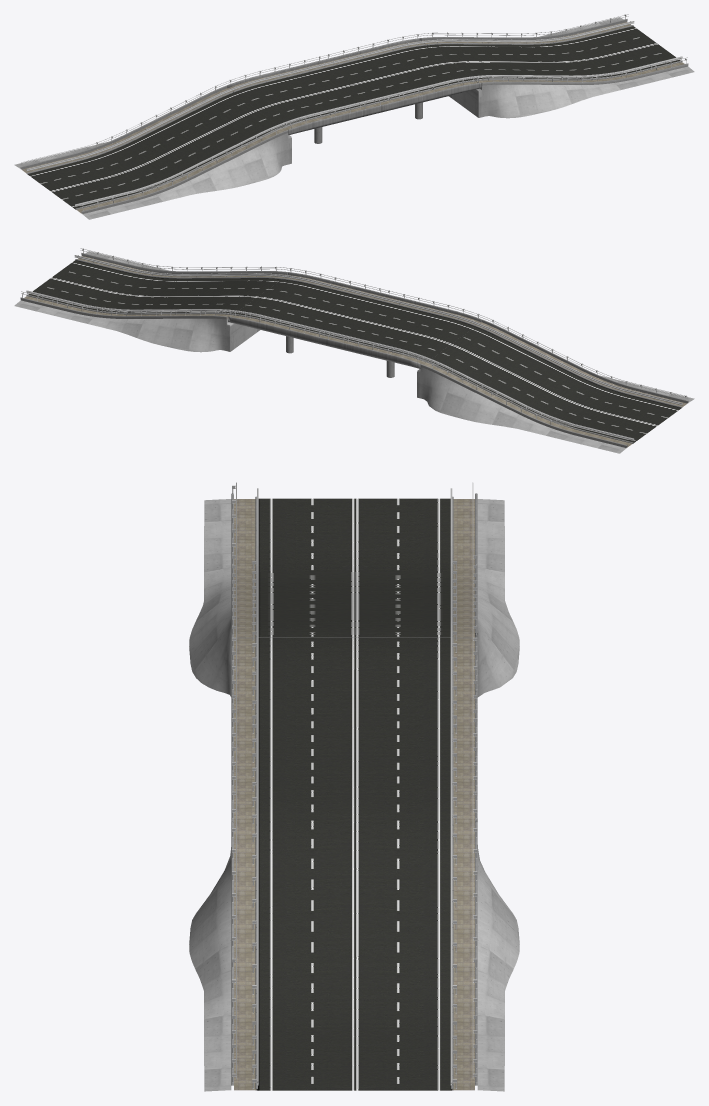
Rendered from qiao4.FBX.
The picture shows the model from 3 angles, top to bottom: view 1: azimuth 30°, elevation 25°; view 2: azimuth 150°, elevation 25°; view 3: azimuth 270°, elevation 25°; orthographic projection. The views are drawn at different scales.
Parts seen in each view (by area): view 1: qiao4; view 2: qiao4; view 3: qiao4.
Boxes of the visible parts, left/top/right/bottom form: qiao4: left=14, top=14, right=694, bottom=219; qiao4: left=14, top=248, right=694, bottom=453; qiao4: left=189, top=482, right=519, bottom=1091.
Bounding box in the file's own units: 9724 × 653 × 2291.
Materials: 5 (5 with a texture image).
